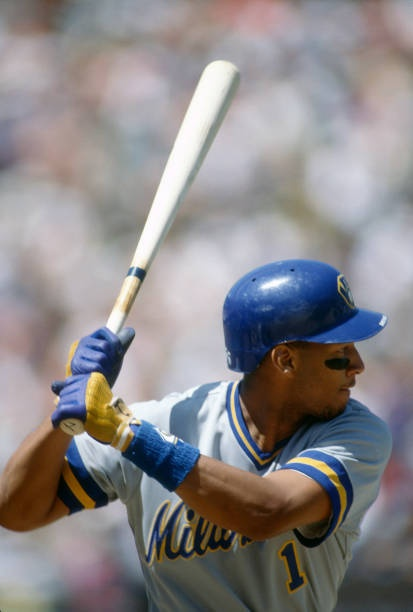bita: (74, 57, 242, 425)
